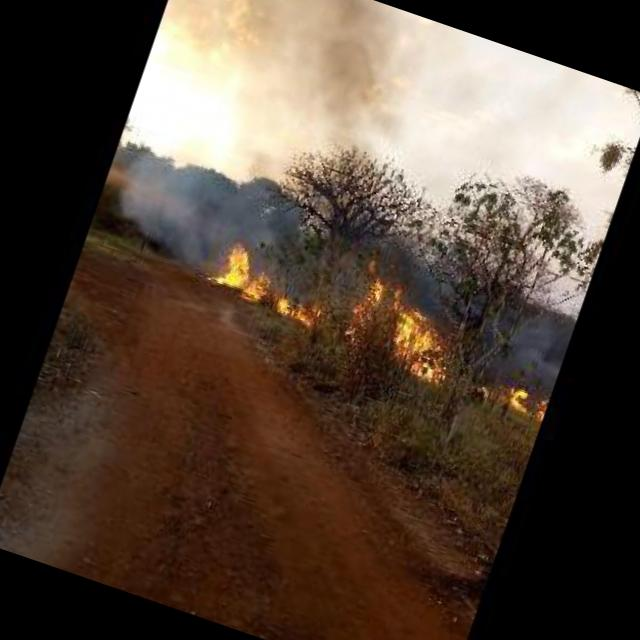fire: (373, 272, 437, 386), (215, 242, 278, 304), (274, 290, 326, 328), (498, 384, 530, 414)
smoke: (214, 0, 441, 191), (99, 140, 239, 278)
